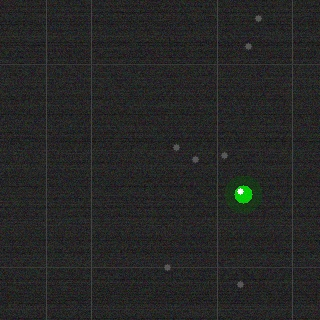green_normal: (232, 183, 254, 205)
